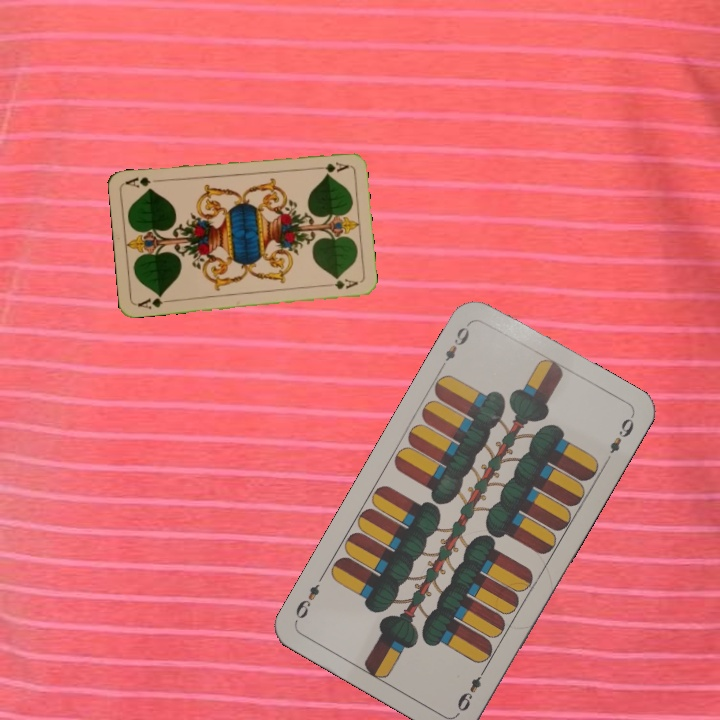E9: (436, 318, 474, 372), (453, 663, 489, 715)
GA: (133, 291, 174, 311), (310, 158, 351, 175)
